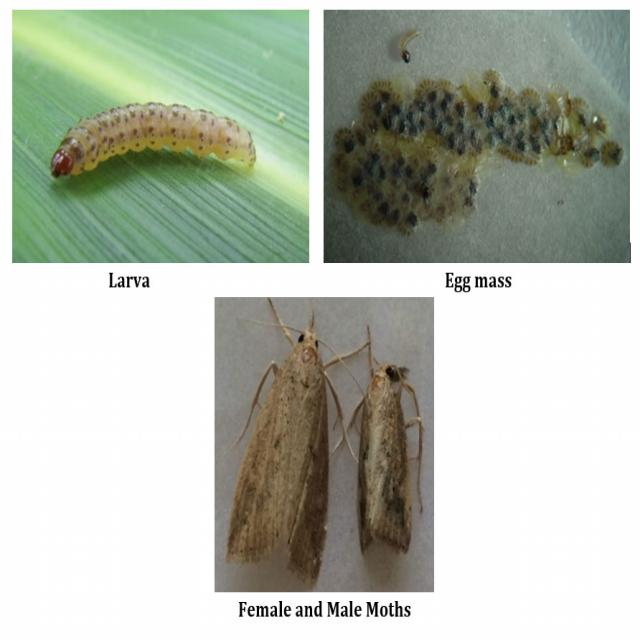cornborer-Adult-: (227, 316, 350, 576), (348, 347, 428, 559)
cornborer-Larva-: (36, 93, 267, 193)
